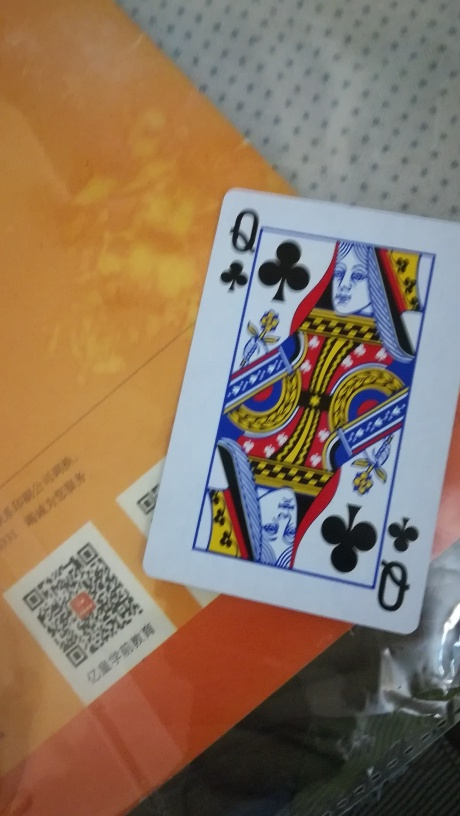mh q: (137, 185, 460, 635)
